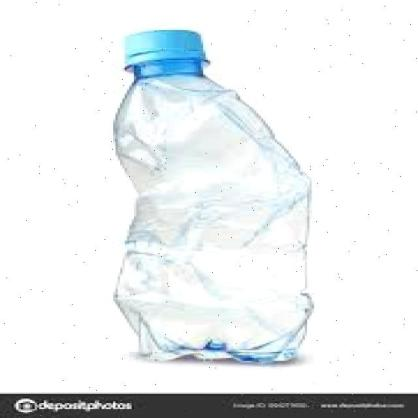bottle: (94, 18, 342, 369)
cap: (116, 24, 214, 76)
